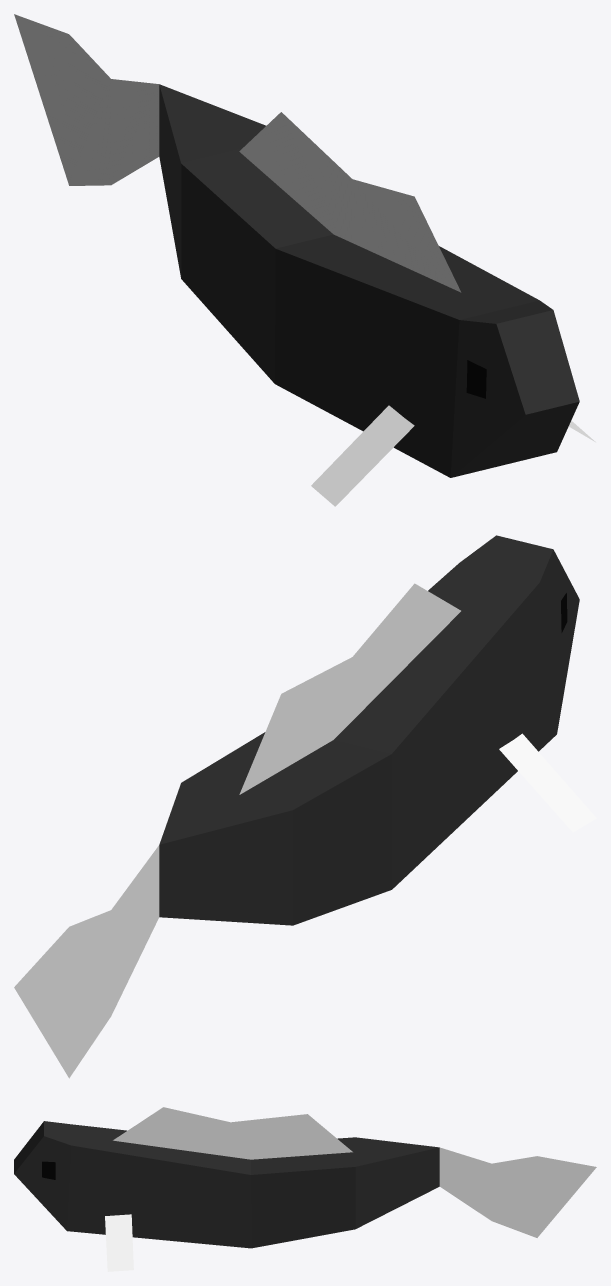
Rendered from 19catfish.fbx.
3 views of the same model, one above another, from view 1: azimuth 30°, elevation 25°; view 2: azimuth 150°, elevation 25°; view 3: azimuth 270°, elevation 25° (orthographic). The views are drawn at different scales.
Parts seen in each view (by area): view 1: Tropical Fish 19; view 2: Tropical Fish 19; view 3: Tropical Fish 19.
Part boxes in pixels (x1,y1,x2,y2): Tropical Fish 19: (14,14,595,506); Tropical Fish 19: (14,535,596,1078); Tropical Fish 19: (14,1107,596,1271).
Bounding box in the file's own units: 78.34 × 69.23 × 279.
